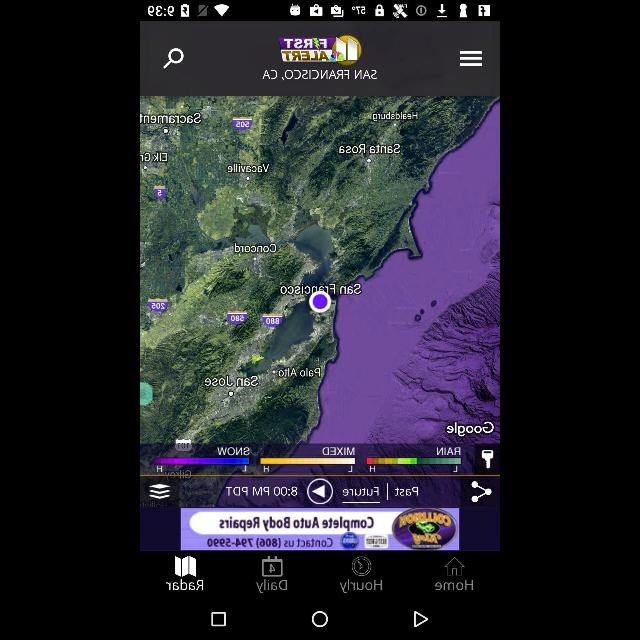icon: (275, 34, 363, 62), (260, 65, 382, 83), (220, 479, 300, 501), (340, 556, 382, 594), (166, 554, 206, 592), (141, 474, 181, 508), (434, 558, 474, 592), (460, 477, 500, 509), (256, 556, 286, 596), (306, 478, 334, 507), (456, 49, 486, 70), (160, 47, 186, 71), (476, 447, 496, 473), (312, 610, 328, 628), (412, 612, 428, 628), (212, 612, 226, 626)
iframe: (180, 508, 460, 550)
map: (141, 98, 499, 446)
panel: (142, 20, 500, 94), (140, 552, 500, 604), (140, 508, 500, 552), (140, 605, 500, 639), (140, 476, 500, 506)
text: (340, 482, 382, 500), (392, 485, 422, 501)
uppertaskbar: (142, 1, 498, 19)
